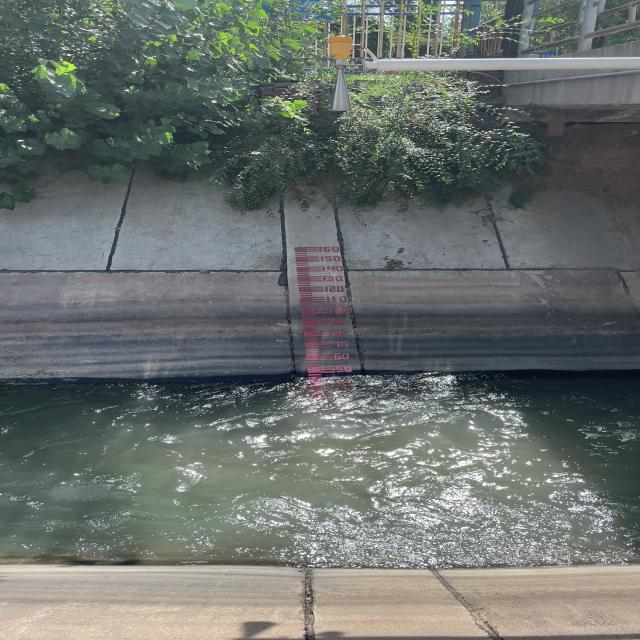ruler: (290, 243, 362, 381)
value: (324, 294, 351, 304), (326, 306, 352, 315), (332, 364, 354, 374), (318, 244, 342, 253), (326, 316, 347, 326), (330, 328, 349, 339), (321, 265, 346, 273), (322, 275, 347, 283), (323, 285, 346, 293), (320, 255, 345, 262), (333, 352, 351, 361), (332, 339, 349, 348)
